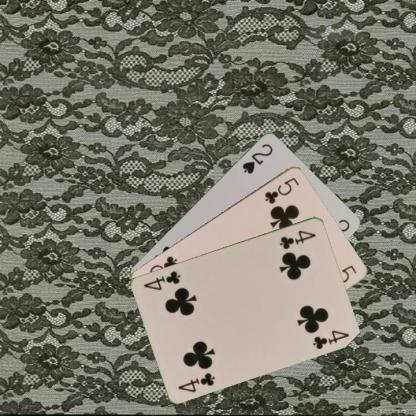2s: (240, 140, 274, 176)
4c: (175, 370, 217, 393), (277, 227, 318, 250)
5c: (262, 174, 300, 205)
